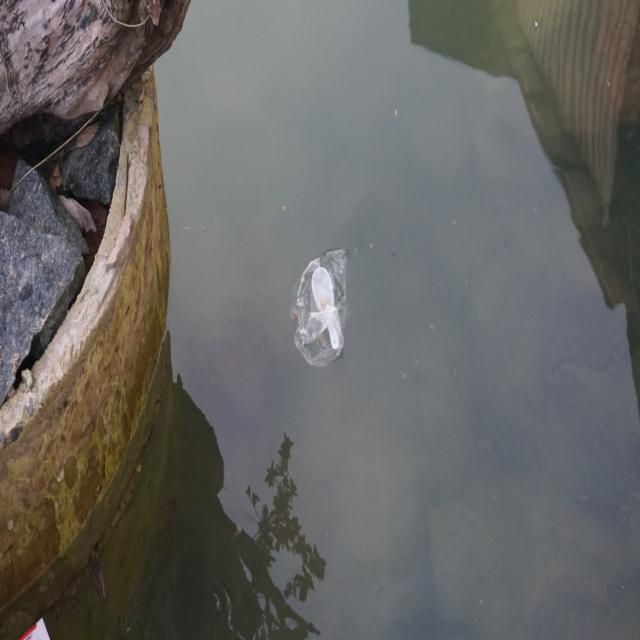Kantong Plastik: (294, 234, 354, 370)
